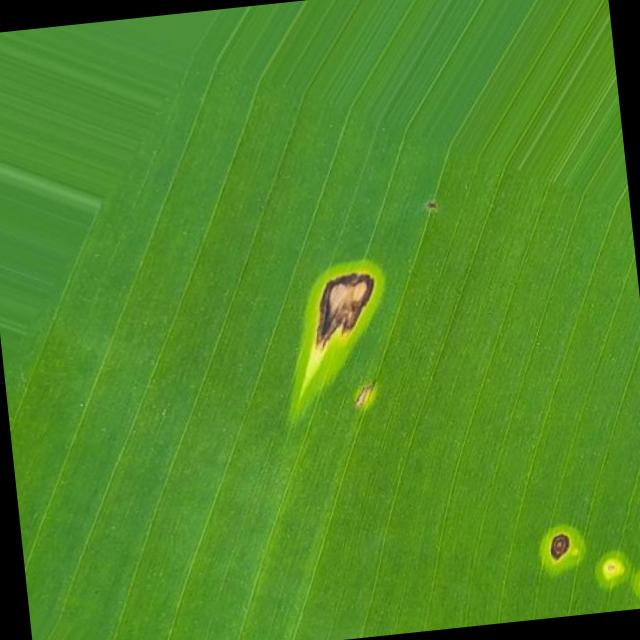Banana_Black_Sigatoka: (258, 213, 470, 439), (516, 459, 640, 619)
